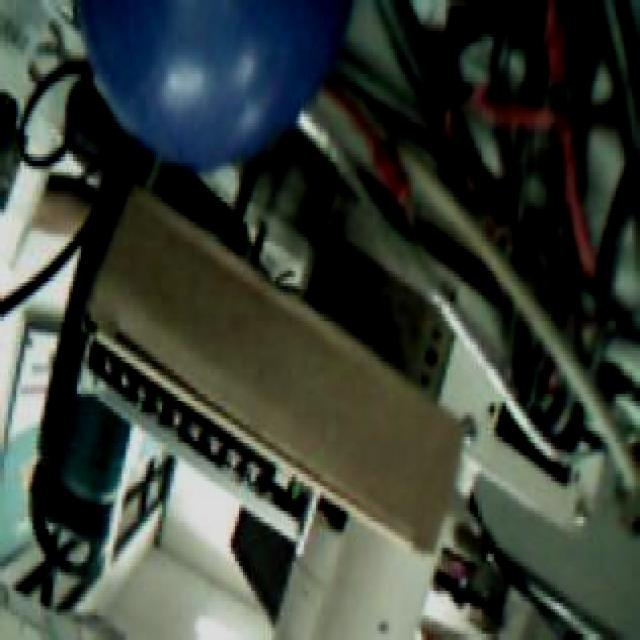BallPurple: (75, 0, 354, 170)
